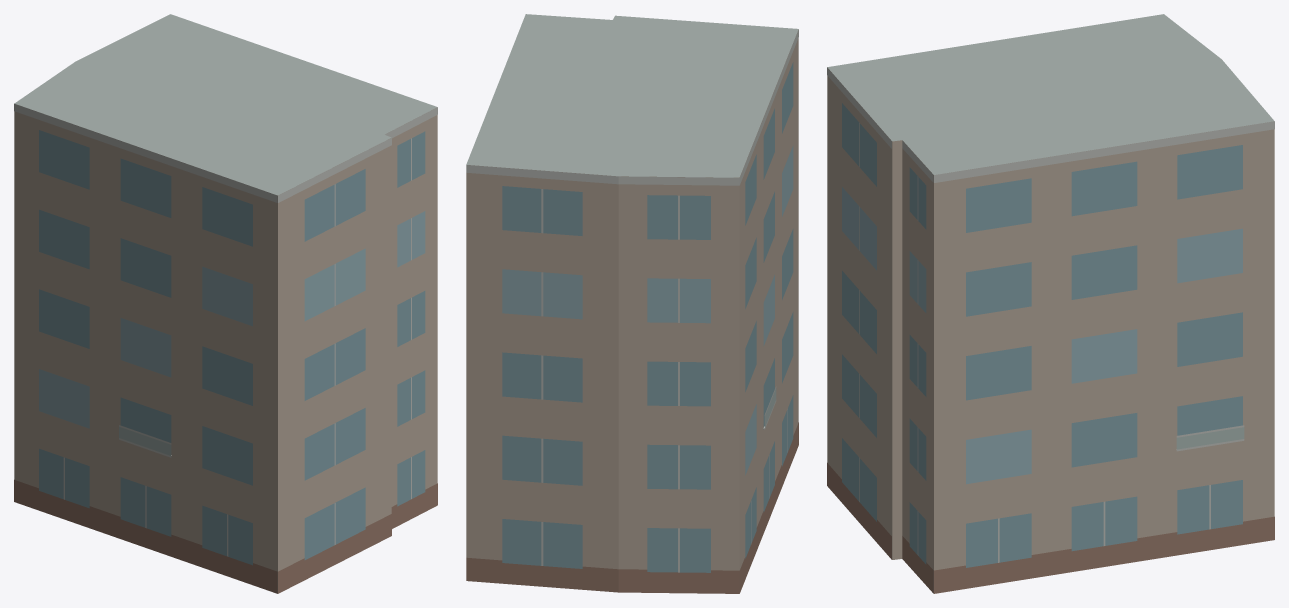
The model's file is survey-upis-32682101.glb.
3 renders of one model, left to right at view 1: azimuth 30°, elevation 25°; view 2: azimuth 150°, elevation 25°; view 3: azimuth 270°, elevation 25°, orthographic. The views are drawn at different scales.
Parts seen in each view (by area): view 1: survey-upis-32682101.tmp; view 2: survey-upis-32682101.tmp; view 3: survey-upis-32682101.tmp.
Boxes of the visible parts, x1,y1,x2,y2 form: survey-upis-32682101.tmp: (14, 14, 437, 593); survey-upis-32682101.tmp: (466, 14, 798, 593); survey-upis-32682101.tmp: (827, 14, 1274, 593).
Bounding box in the file's own units: 10.53 × 12.75 × 12.36.
